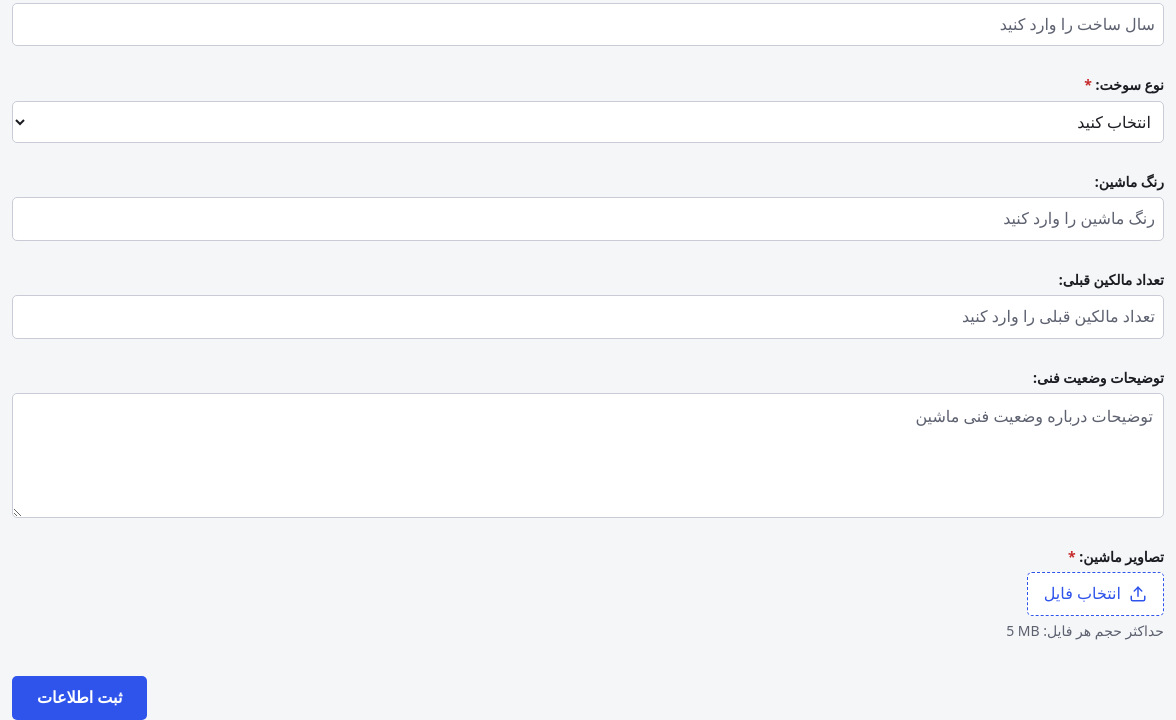
it: DynamicForm: validation › links each error to its control and moves focus to the first invalid field
(page scrolled)
Step 1. Click the button "ثبت اطلاعات" → point(80, 698), box x1=12 y1=676 x2=147 y2=719
(page scrolled)
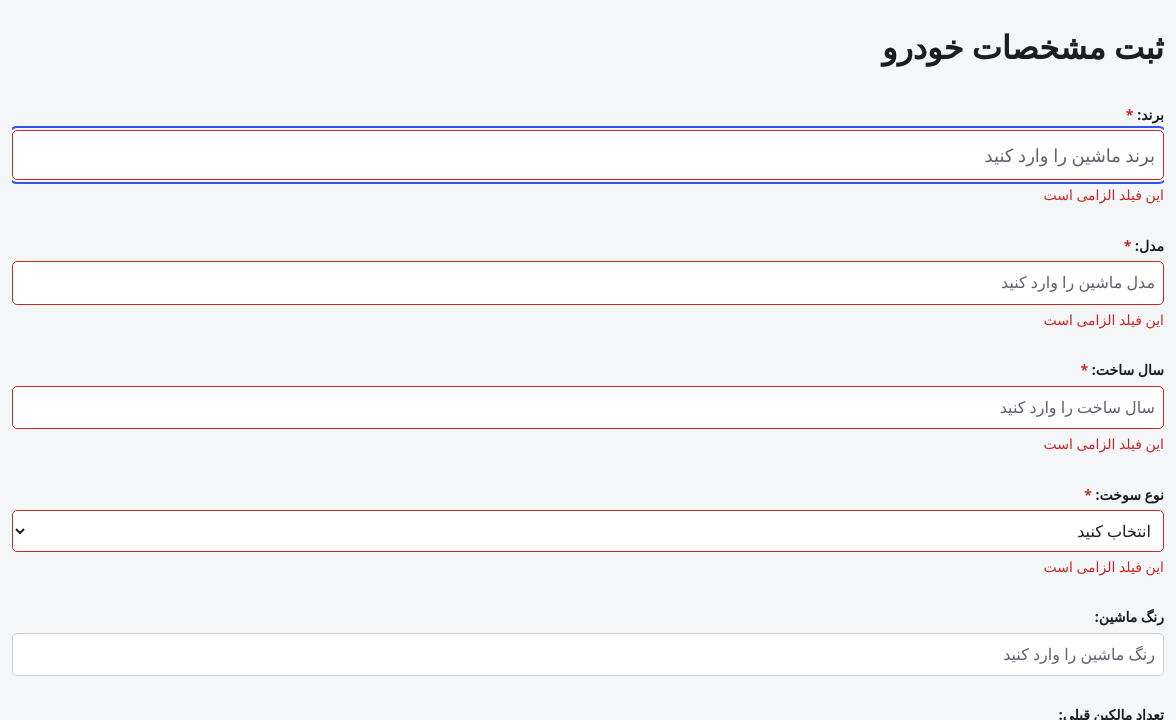
Now the message "این فیلد الزامی است" below "برند:" is shown, box x1=1043 y1=186 x2=1164 y2=204
